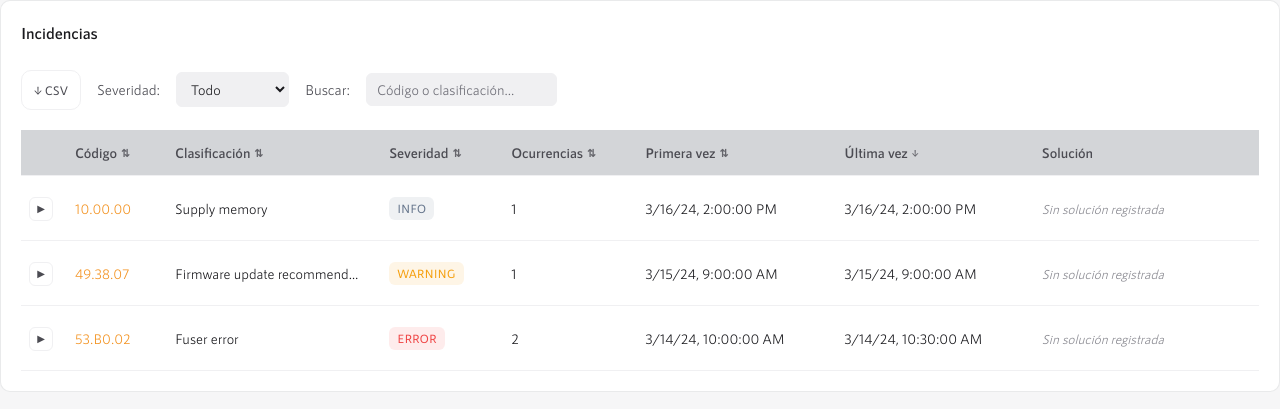
Test: IncidentsTable › búsqueda por código filtra correctamente
Type "49" into the search field named "Buscar en código o clasificación" at (461, 90), box [366, 73, 557, 106]
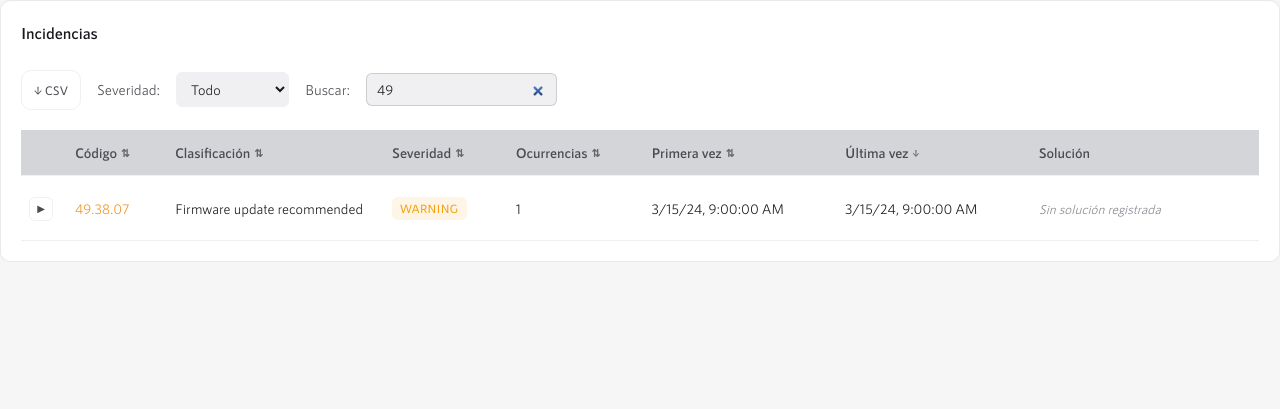
Expected: the button "49.38.07" is shown, [75, 198, 130, 219]
Now the button "53.B0.02" is gone
Now the button "10.00.00" is gone
